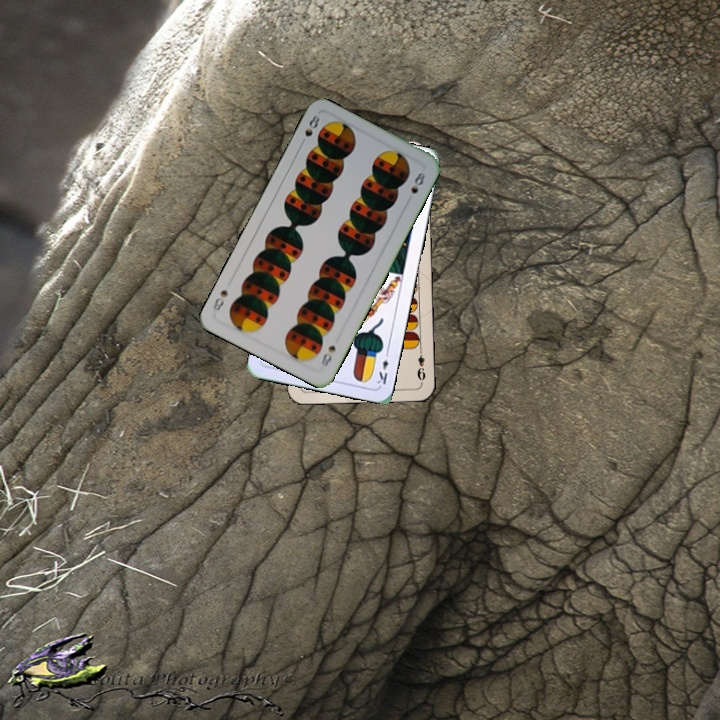E9: (413, 344, 428, 383)
EK: (373, 347, 392, 387)
S8: (296, 110, 322, 149), (317, 341, 338, 370)
